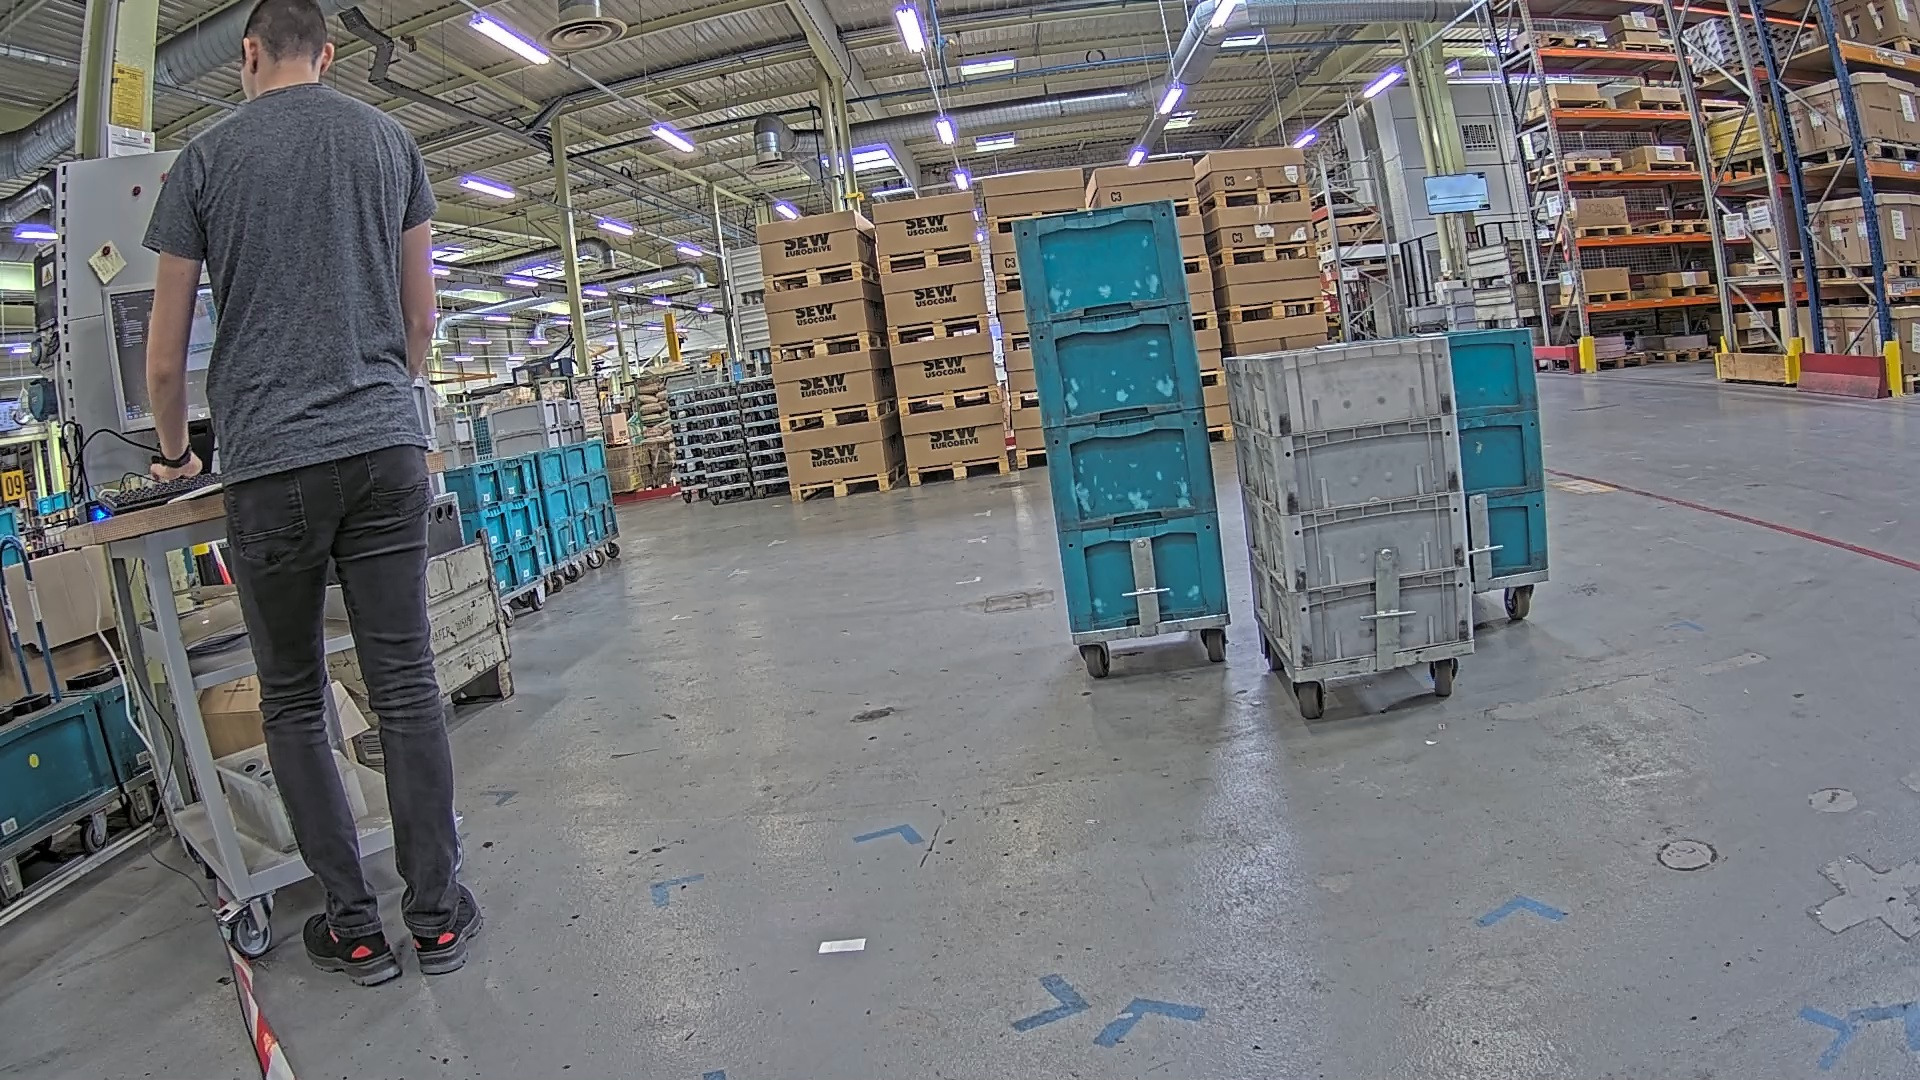8G: (1262, 336, 1477, 675)
B4: (1004, 198, 1237, 638)
B8: (1444, 324, 1552, 584)
